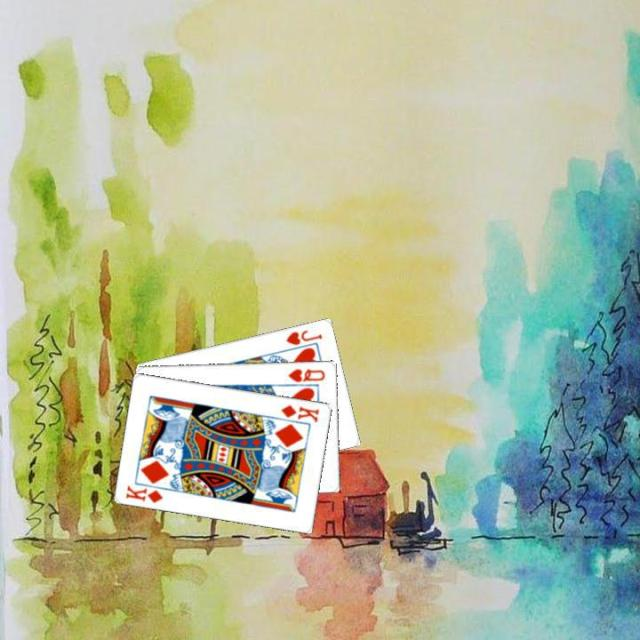JH: (282, 326, 324, 347)
KD: (277, 401, 321, 424), (122, 482, 164, 505)
QH: (285, 364, 327, 384)
